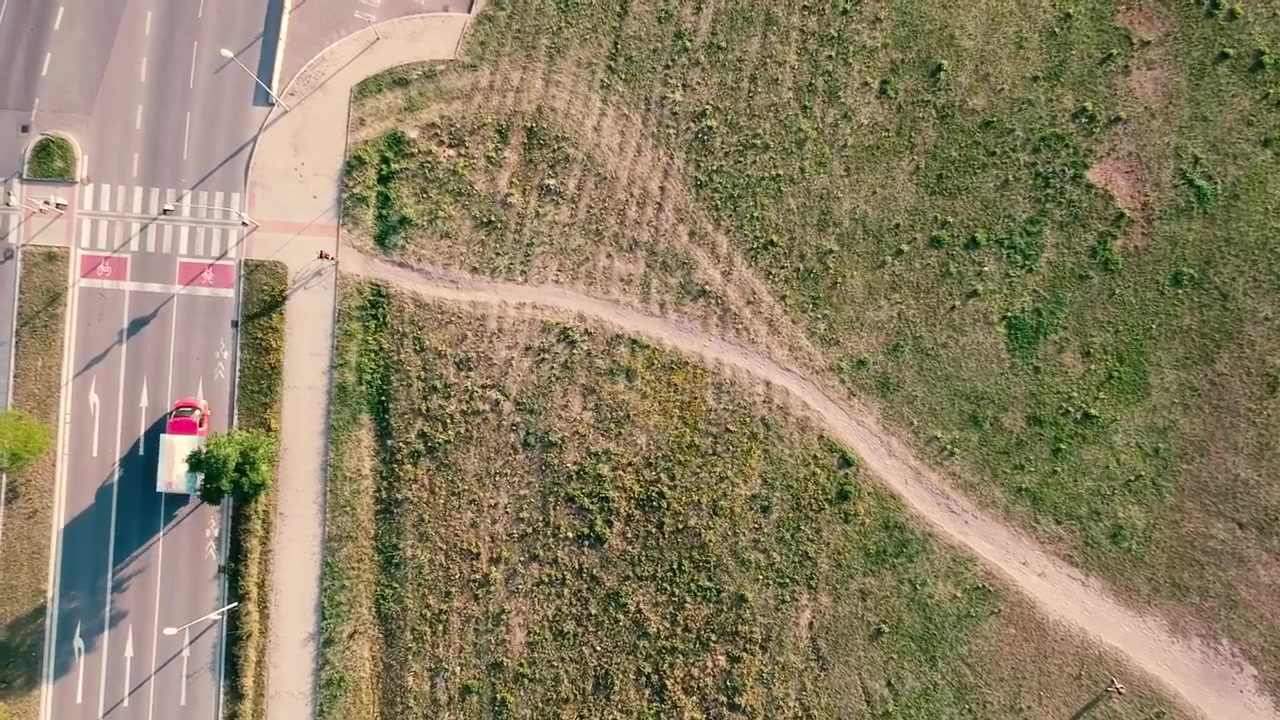car: (153, 395, 208, 496)
